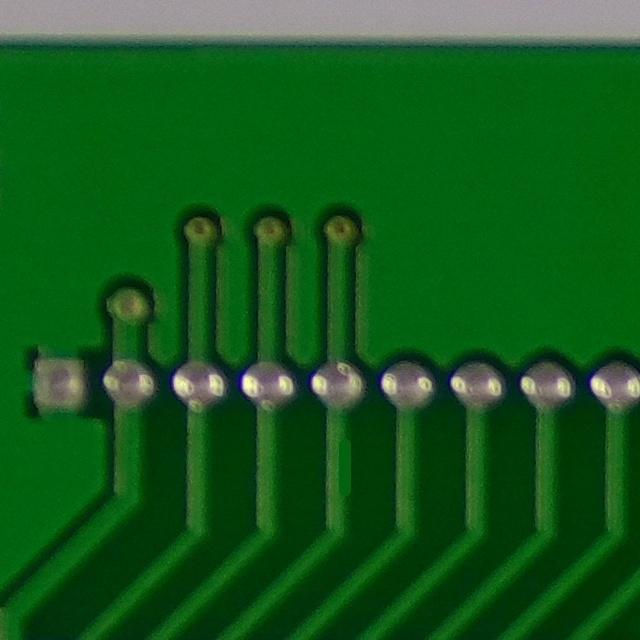spur: (319, 431, 364, 500)
